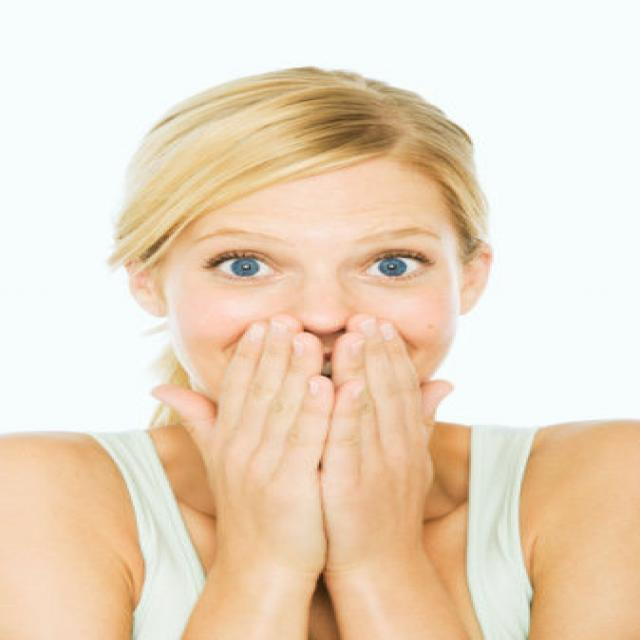nomask: (176, 151, 458, 471)
